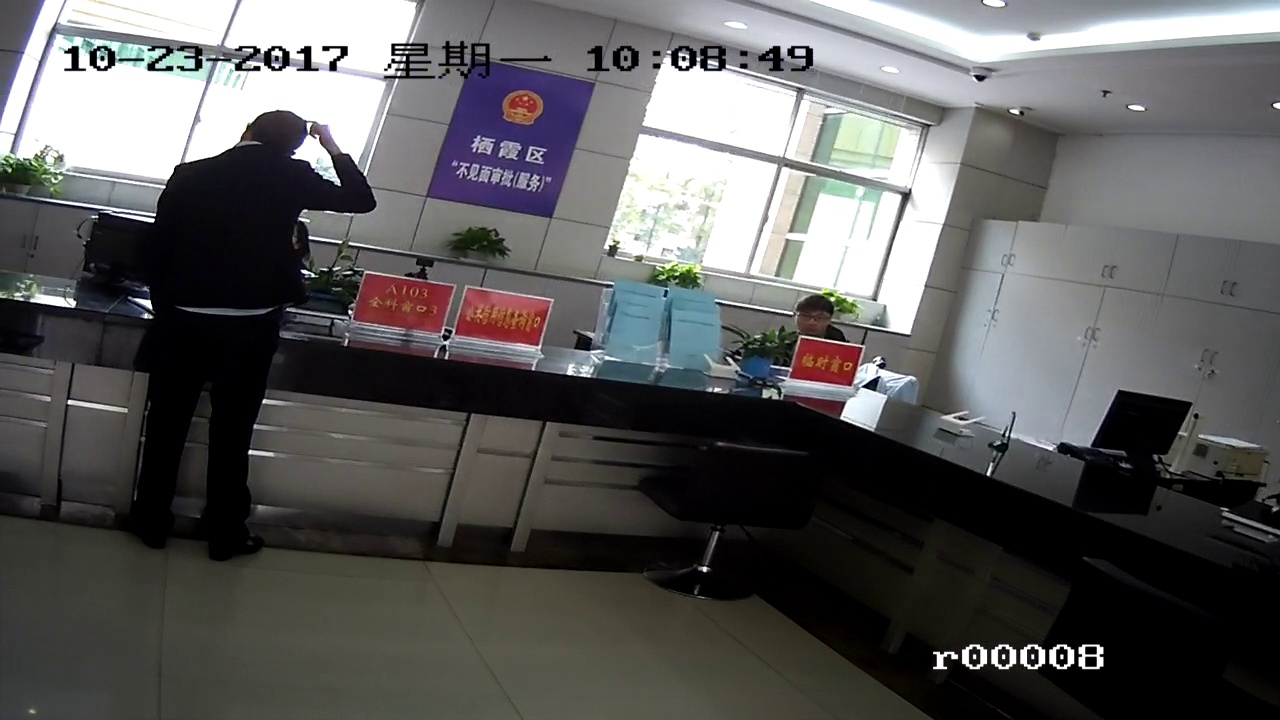billboard: (443, 65, 581, 229), (361, 280, 443, 330), (468, 297, 540, 347)
person: (155, 103, 328, 558), (784, 296, 848, 349)
